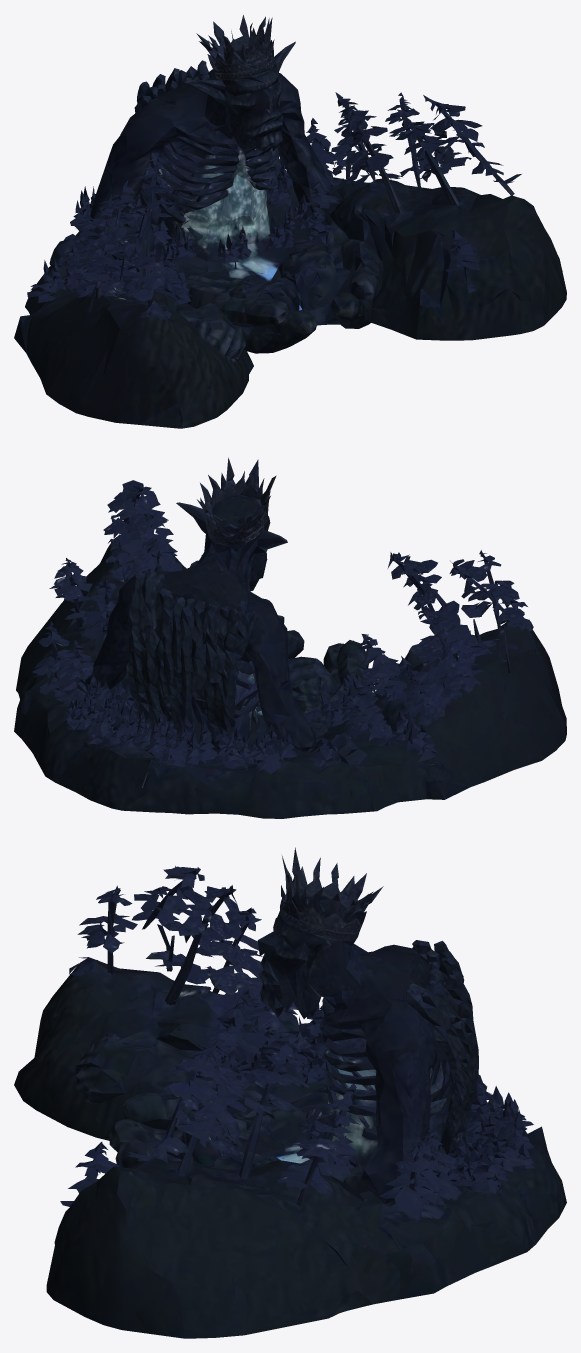
Rendered from hollow-king.glb.
3 views of the same model, one above another, from view 1: azimuth 30°, elevation 25°; view 2: azimuth 150°, elevation 25°; view 3: azimuth 270°, elevation 25° (orthographic). The views are drawn at different scales.
Parts seen in each view (by area): view 1: output_unwrapped; view 2: output_unwrapped; view 3: output_unwrapped.
Boxes of the visible parts, box(x1,y1,x2,y2) form: output_unwrapped: box(14, 15, 566, 428); output_unwrapped: box(14, 457, 566, 818); output_unwrapped: box(14, 847, 566, 1338).
Size of the model in its own units: 1.9 by 0.9841 by 1.48.
1 material, 1 textured.
